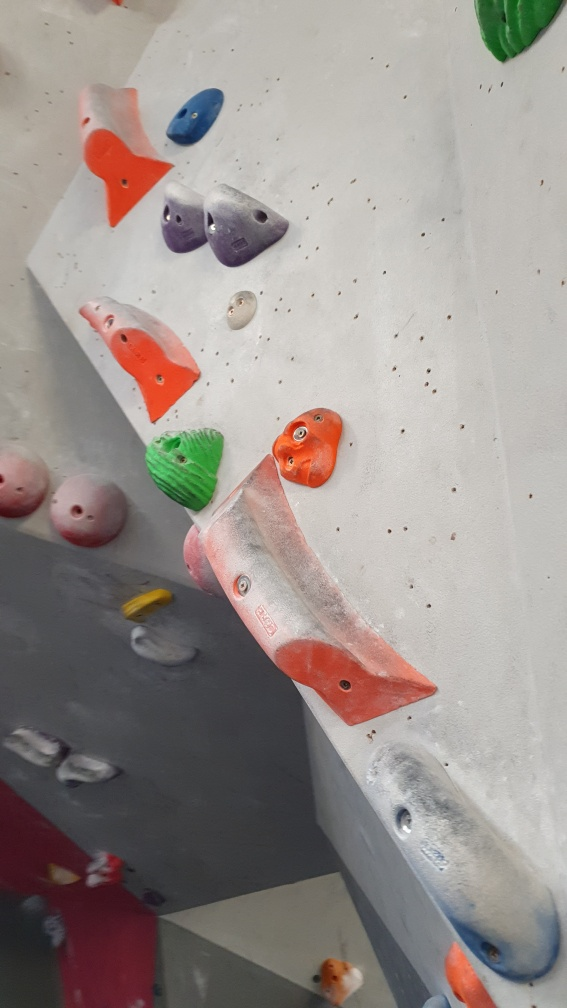Jug: (202, 181, 294, 270), (146, 427, 226, 513), (267, 404, 345, 489), (162, 180, 215, 256)
Pinch: (201, 455, 439, 729), (363, 735, 560, 987), (76, 294, 206, 425), (76, 77, 179, 229)
Sloper: (54, 471, 133, 547), (1, 445, 57, 521)
